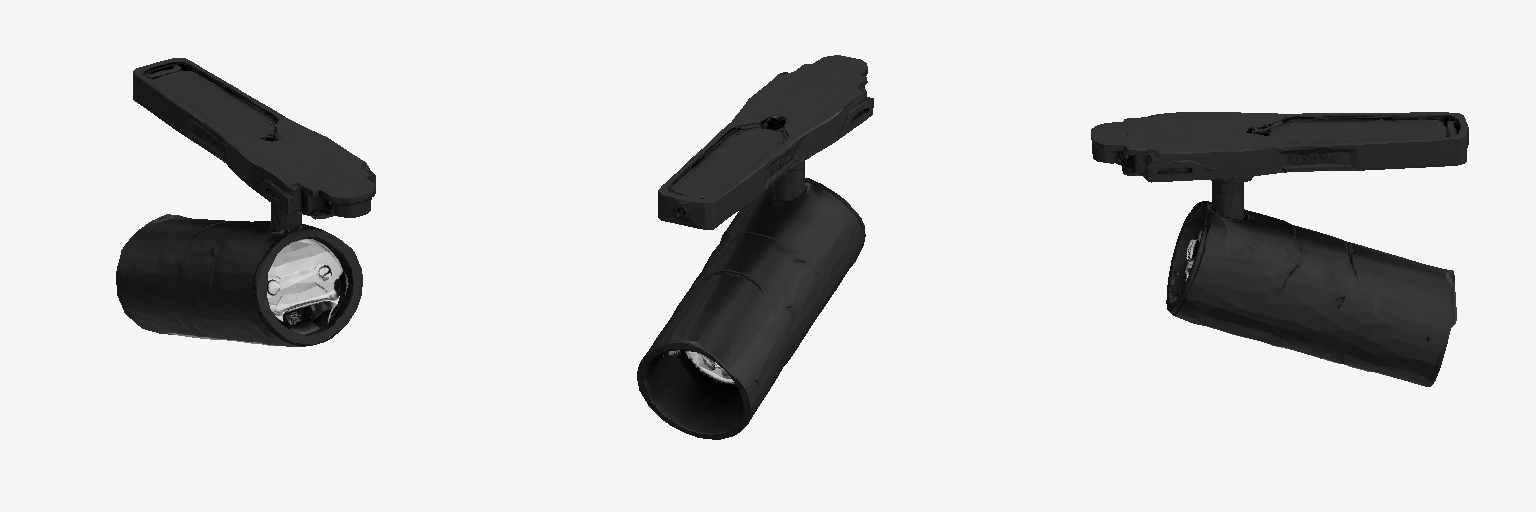
The picture shows the model from 3 angles: view 1: azimuth 30°, elevation 25°; view 2: azimuth 150°, elevation 25°; view 3: azimuth 270°, elevation 25°; orthographic projection.
Visible parts, largest first — view 1: luminaria1; view 2: luminaria1; view 3: luminaria1.
Part boxes in pixels (x1,y1,x2,y2): luminaria1: (116,58,375,346); luminaria1: (637,55,873,439); luminaria1: (1091,112,1468,386).
Bounding box in the file's own units: 0.8052 × 1.61 × 2.17.
1 materials, 1 textured.